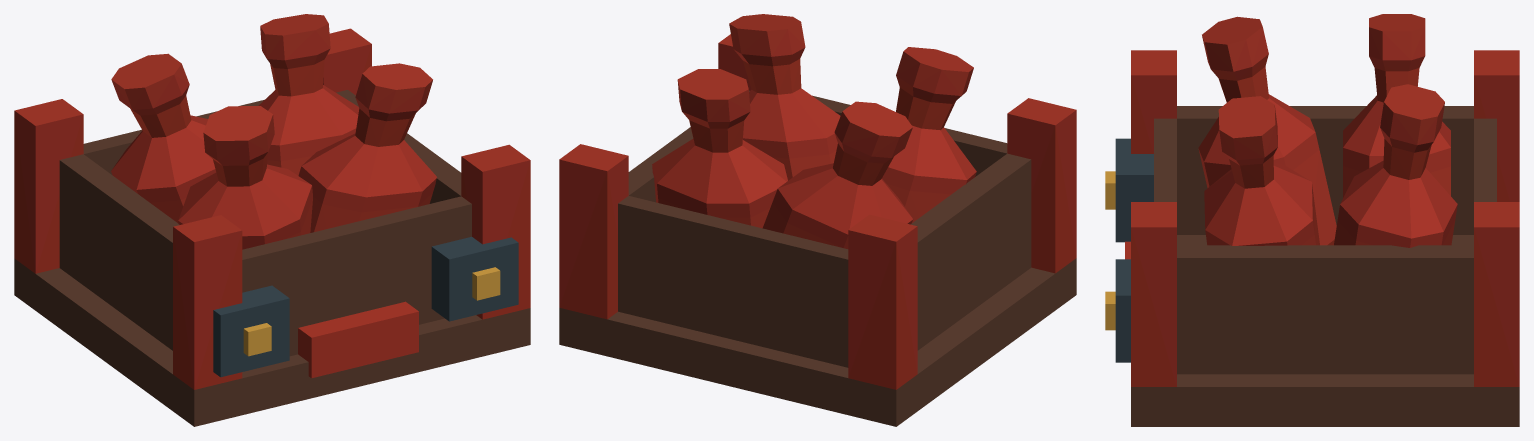
Rendered from bottle-crate-coral.glb.
3 views of the same model, side by side, from view 1: azimuth 30°, elevation 25°; view 2: azimuth 150°, elevation 25°; view 3: azimuth 270°, elevation 25° (orthographic). The views are drawn at different scales.
Parts seen in each view (by area): view 1: bottle-crate-coral; view 2: bottle-crate-coral; view 3: bottle-crate-coral.
Part boxes in pixels (left/top/right/bottom): bottle-crate-coral: left=14, top=14, right=530, bottom=426; bottle-crate-coral: left=559, top=14, right=1076, bottom=426; bottle-crate-coral: left=1105, top=14, right=1519, bottom=426.
Bounding box in the file's own units: 0.68 × 0.49 × 0.6719.
